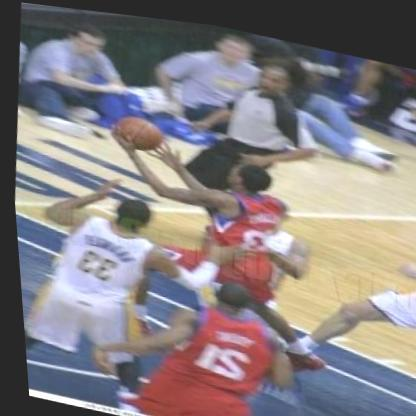basketball: (112, 105, 164, 151)
